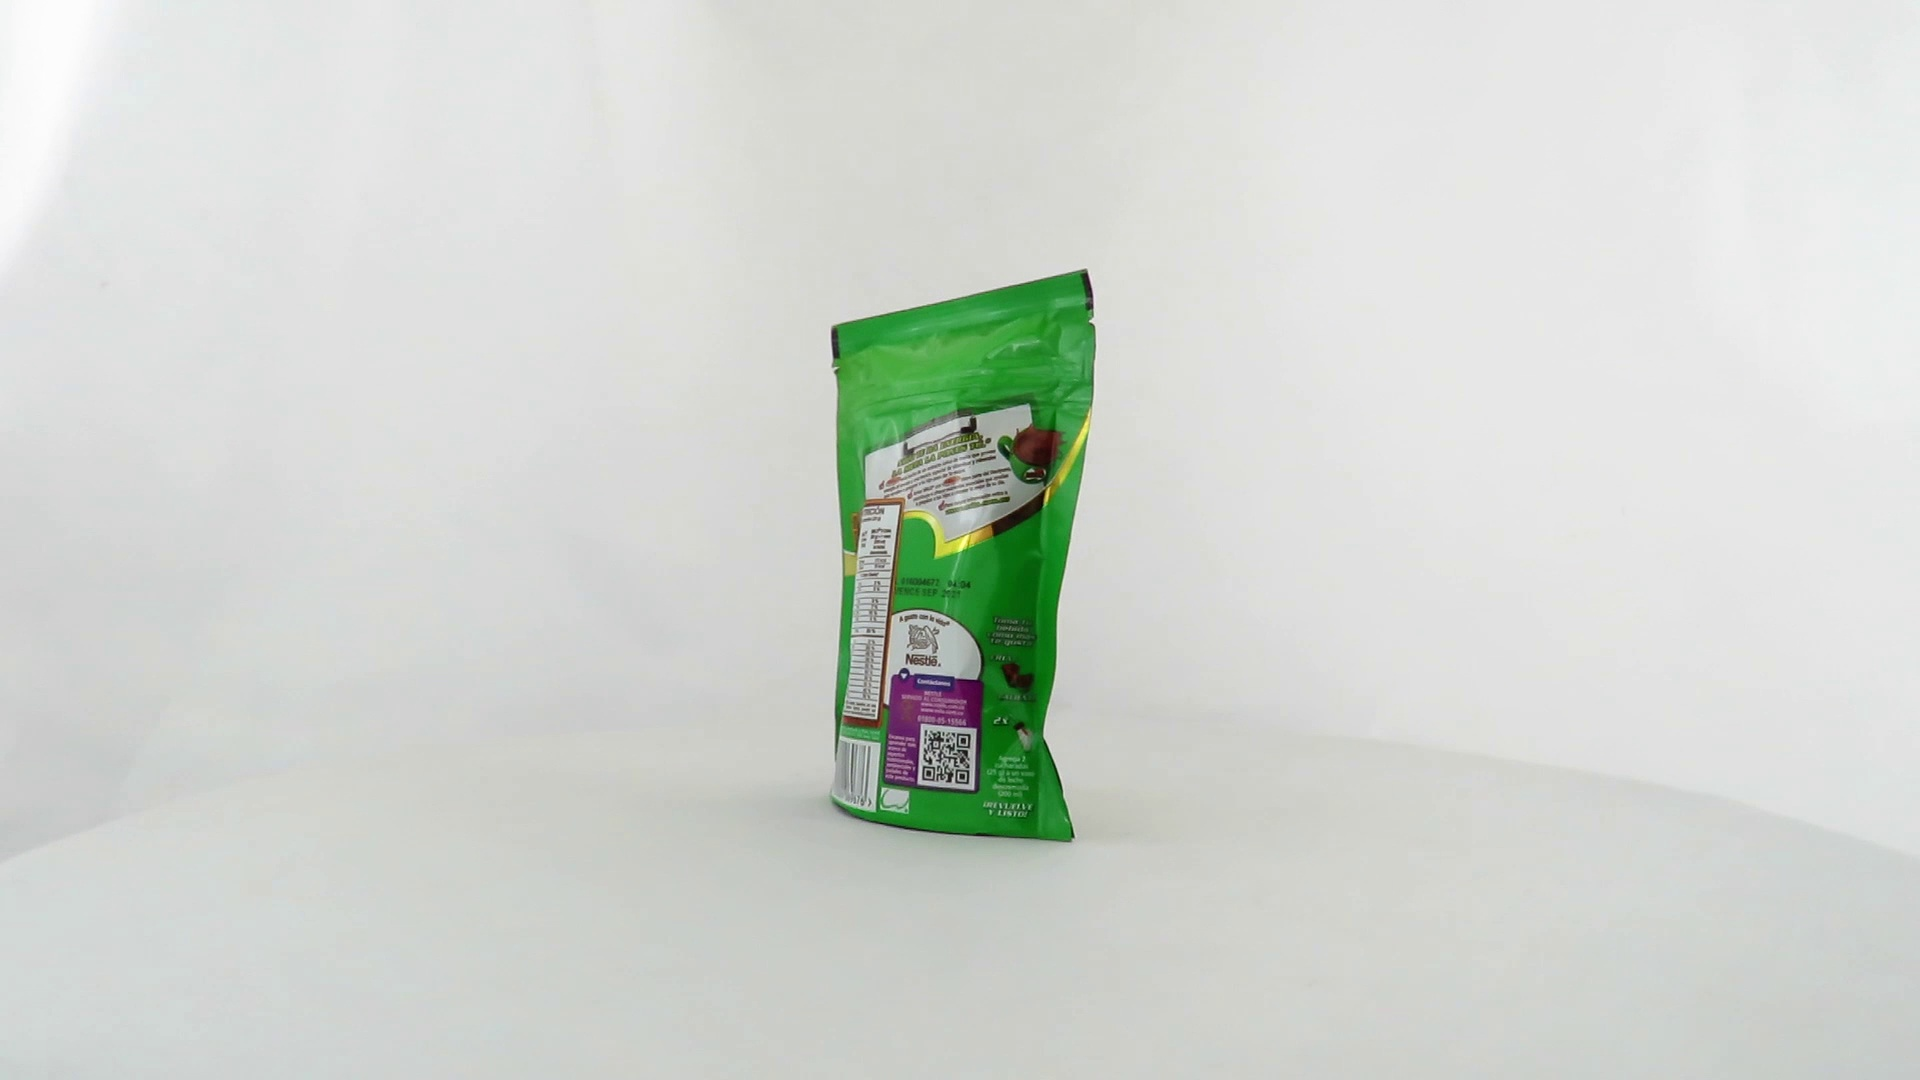COL0170203DYP10000: (824, 262, 1102, 849)
